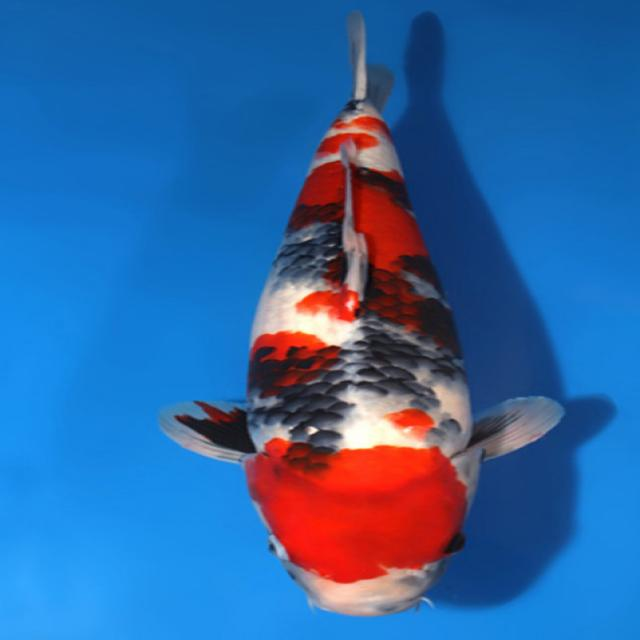Showa: (157, 8, 565, 618)
